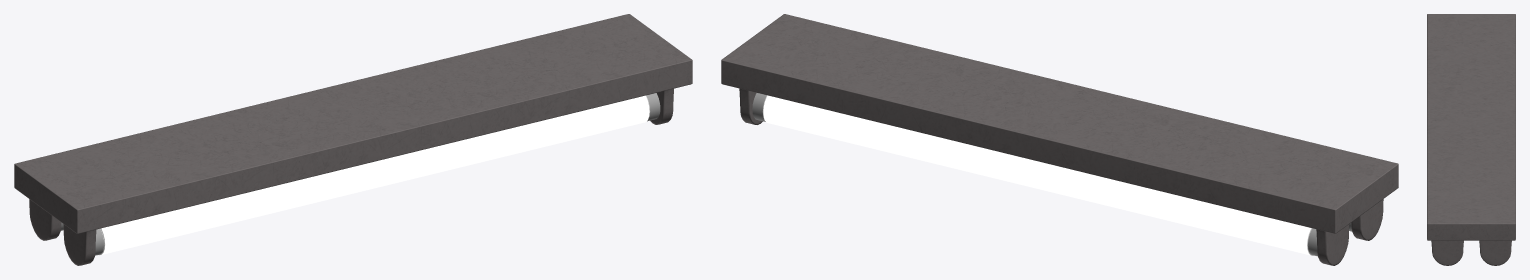
File: 3d_tube_lamp.glb
The picture shows the model from 3 angles, left to right: view 1: azimuth 30°, elevation 25°; view 2: azimuth 150°, elevation 25°; view 3: azimuth 270°, elevation 25°; orthographic projection. The views are drawn at different scales.
Visible parts, largest first — view 1: superior, tubo_2, borde_2, borde_1, borde_4; view 2: superior, tubo_1, borde_1, borde_2, borde_3; view 3: superior, borde_3, borde_4.
Boxes of the visible parts, box(x1,y1,x2,y2) form: superior: box(14, 14, 692, 233); tubo_2: box(95, 93, 660, 255); borde_2: box(63, 224, 96, 265); borde_1: box(29, 199, 61, 240); borde_4: box(650, 88, 673, 124); superior: box(721, 14, 1398, 233); tubo_1: box(752, 93, 1317, 256); borde_1: box(1316, 224, 1349, 265); borde_2: box(1351, 199, 1383, 240); borde_3: box(739, 88, 762, 124); superior: box(1427, 14, 1515, 240); borde_3: box(1479, 240, 1511, 265); borde_4: box(1431, 240, 1463, 265).
Bounding box in the file's own units: 0.0377 × 0.00399 × 0.00672.
Materials: 3 (3 with a texture image).
